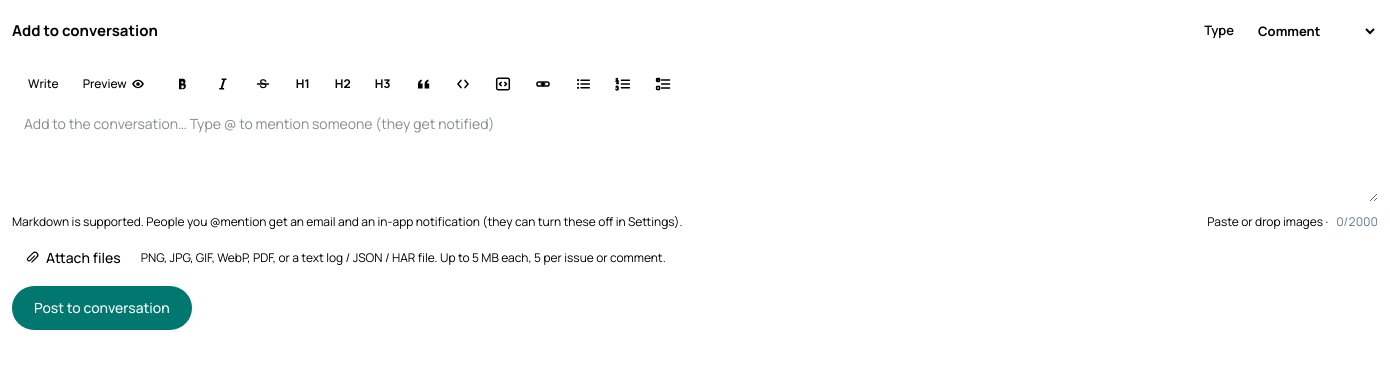
Scenario: CommentForm optimistic update and rollback › keeps the body and shows the error when the action fails
Type "Hey" into the text box named "Add to conversation" at (695,154), box [12, 106, 1378, 202]
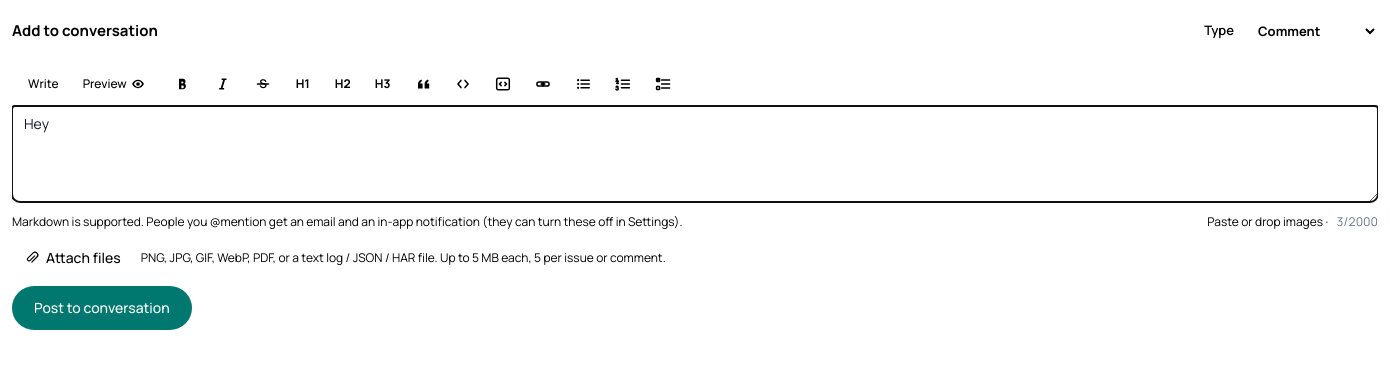
Click the button "Post to conversation" at (102,308), box [12, 286, 192, 330]
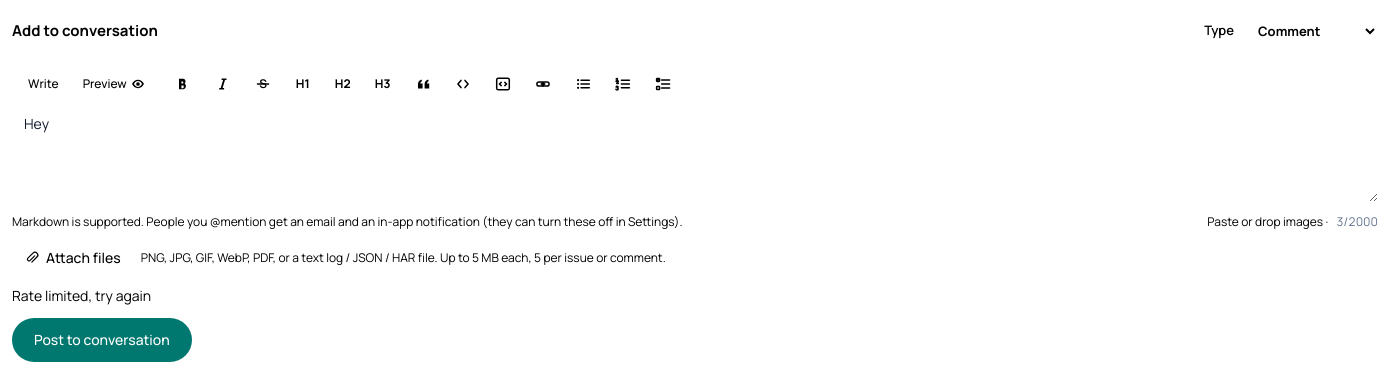
Expected: the button "Post to conversation" is shown, [12, 318, 192, 362]
Result: the button "Post to conversation" is enabled at [12, 318, 192, 362]
Result: the message reads "Rate limited, try again" at [12, 286, 151, 305]
